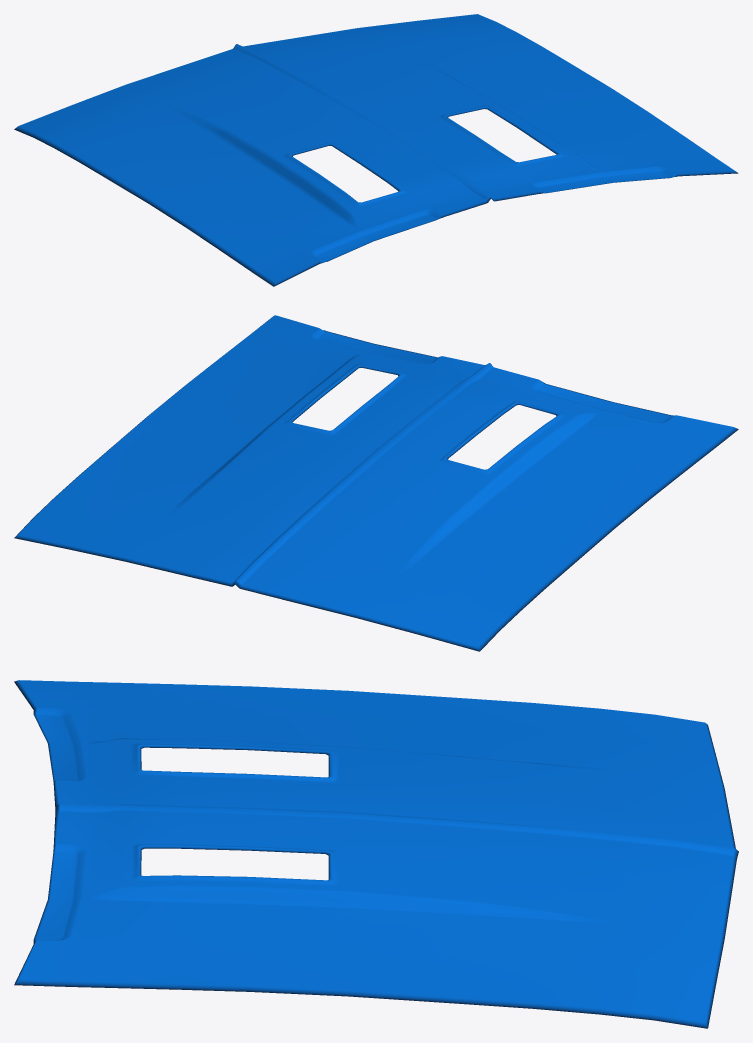
File: Camaro_Bonnet01_Duco.fbx
The picture shows the model from 3 angles, top to bottom: view 1: azimuth 30°, elevation 25°; view 2: azimuth 150°, elevation 25°; view 3: azimuth 270°, elevation 25°; orthographic projection. The views are drawn at different scales.
Visible parts, largest first — view 1: Camaro_Bonnet01_Duco; view 2: Camaro_Bonnet01_Duco; view 3: Camaro_Bonnet01_Duco.
Boxes of the visible parts, <box> form: Camaro_Bonnet01_Duco: <box>14,14,738,286</box>; Camaro_Bonnet01_Duco: <box>14,315,738,651</box>; Camaro_Bonnet01_Duco: <box>14,680,738,1028</box>.
Bounding box in the file's own units: 1.33 × 1.34 × 0.1488.
